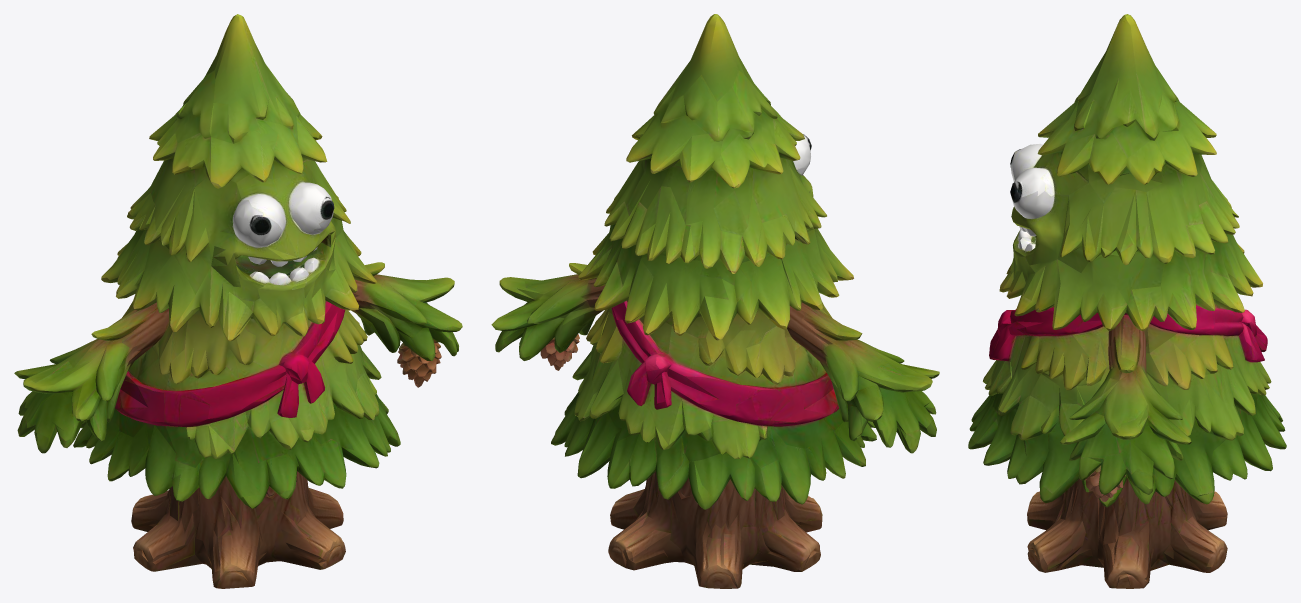
Rendered from tree.glb.
3 views of the same model, side by side, from view 1: azimuth 30°, elevation 25°; view 2: azimuth 150°, elevation 25°; view 3: azimuth 270°, elevation 25° (orthographic).
Bounding box in the file's own units: 1.62 × 1.9 × 1.04.
1 material, 1 textured.
